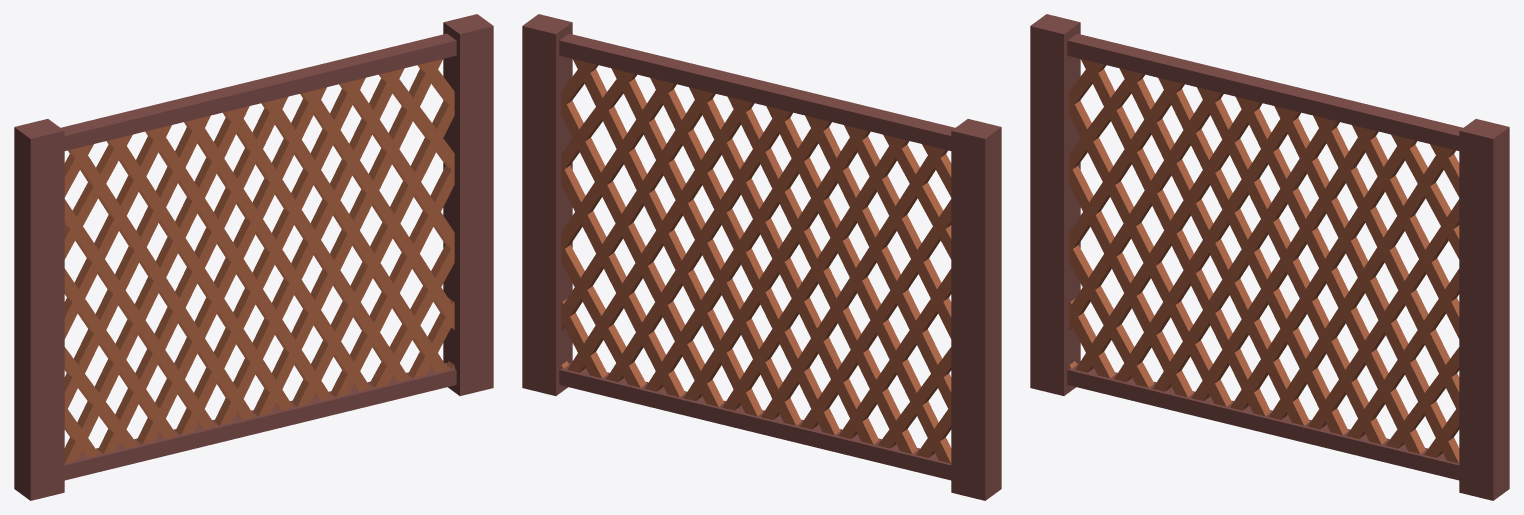
The model's file is parede-cruzada.fbx.
The picture shows the model from 3 angles, left to right: view 1: azimuth 30°, elevation 25°; view 2: azimuth 150°, elevation 25°; view 3: azimuth 330°, elevation 25°; orthographic projection.
Parts seen in each view (by area): view 1: Cube.024; view 2: Cube.024; view 3: Cube.024.
Boxes of the visible parts, box(x1,y1,x2,y2) form: Cube.024: box(14, 14, 493, 500); Cube.024: box(522, 14, 1001, 500); Cube.024: box(1030, 14, 1509, 500).
Bounding box in the file's own units: 8.32 × 6.21 × 0.5123.
